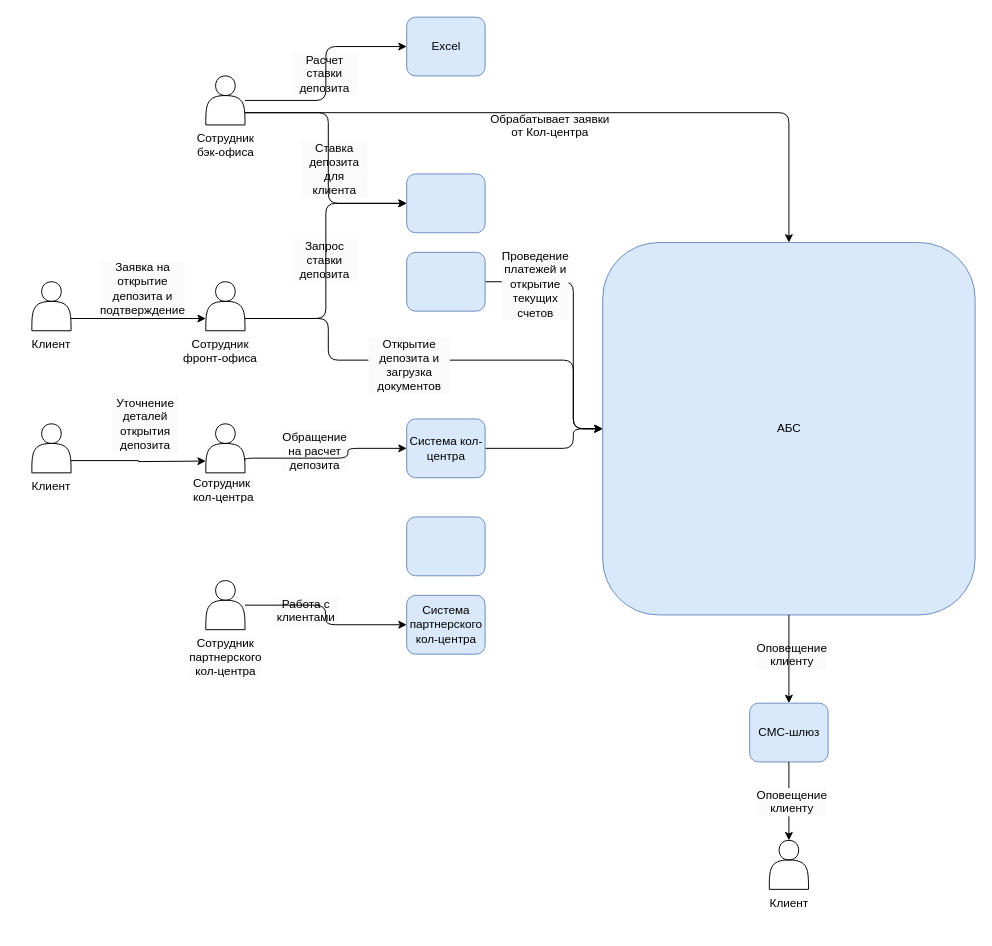
Image size: 992x946. Some labels were removed from this diagram. Each missing label, with the box of its shape:
Интернет-банк: (406, 251, 485, 311)
Сайт: (406, 516, 485, 576)
Электронная почта: (406, 173, 485, 233)
